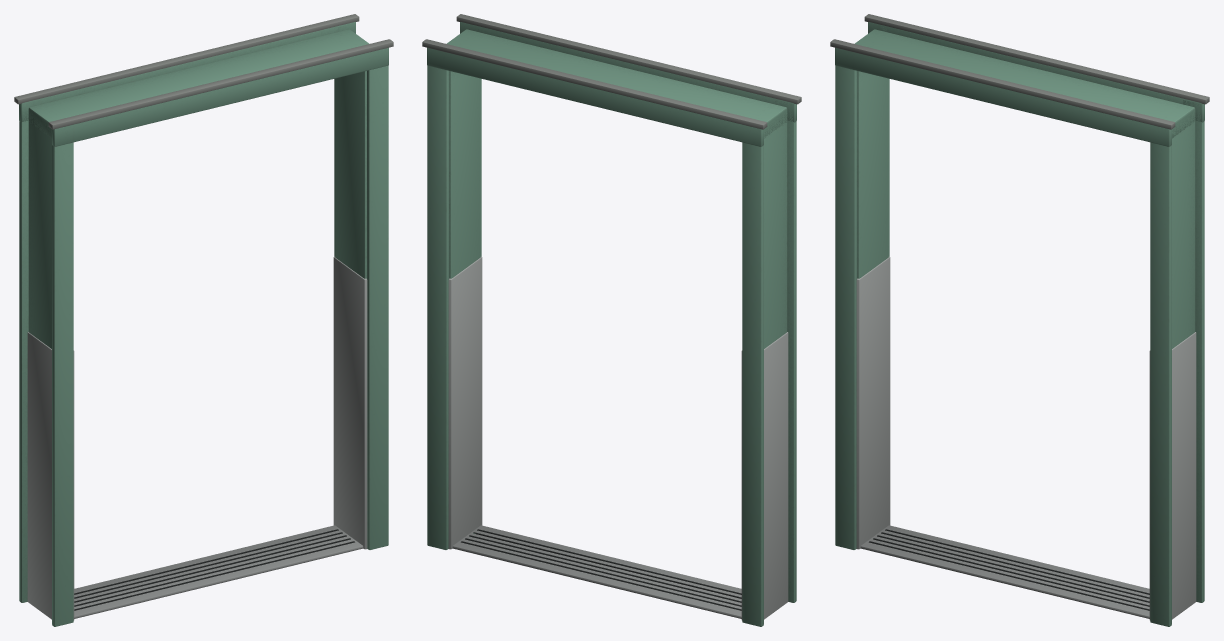
File: CTCC_ENV_EmergencyDoorFrame.fbx
The picture shows the model from 3 angles, left to right: view 1: azimuth 30°, elevation 25°; view 2: azimuth 150°, elevation 25°; view 3: azimuth 330°, elevation 25°; orthographic projection.
Parts seen in each view (by area): view 1: CTCC_ENV_EmergencyDoorFrame; view 2: CTCC_ENV_EmergencyDoorFrame; view 3: CTCC_ENV_EmergencyDoorFrame.
Part boxes in pixels (box(x1,y1,x2,y2)): CTCC_ENV_EmergencyDoorFrame: box(14, 14, 393, 626); CTCC_ENV_EmergencyDoorFrame: box(422, 14, 801, 626); CTCC_ENV_EmergencyDoorFrame: box(830, 14, 1209, 626).
Size of the model in its own units: 1.64 by 2.32 by 0.322.
